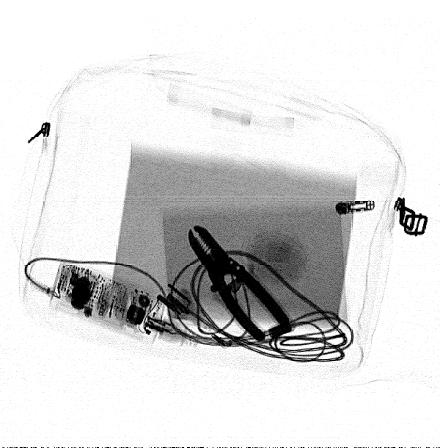Pliers: (188, 223, 292, 343)
